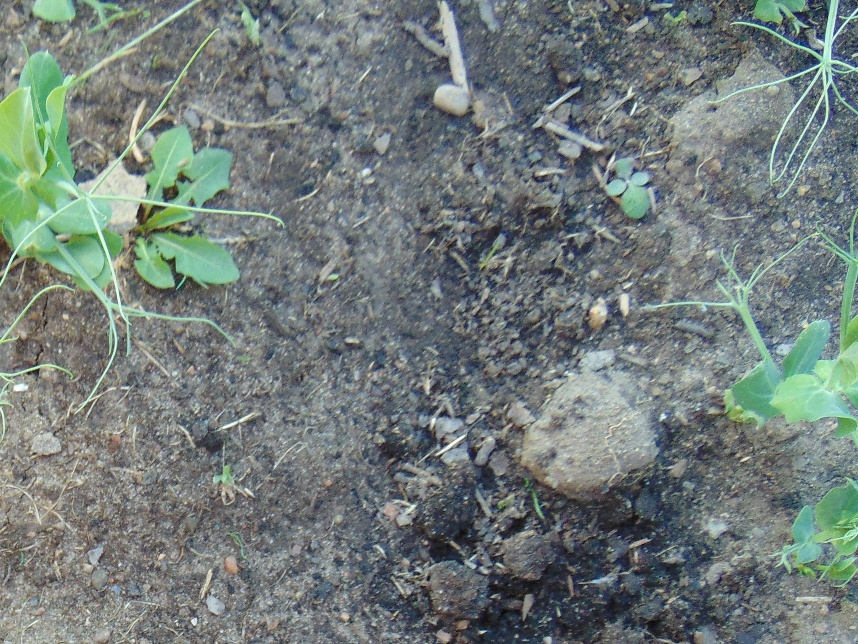crop: (708, 204, 858, 508), (1, 49, 149, 353), (774, 470, 858, 602), (774, 1, 858, 132)
weed: (609, 162, 651, 221)
